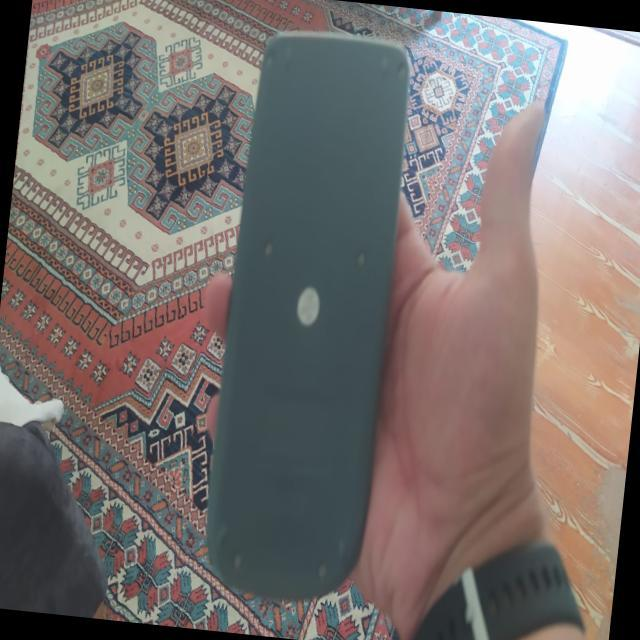Calculator: (198, 21, 416, 606)
